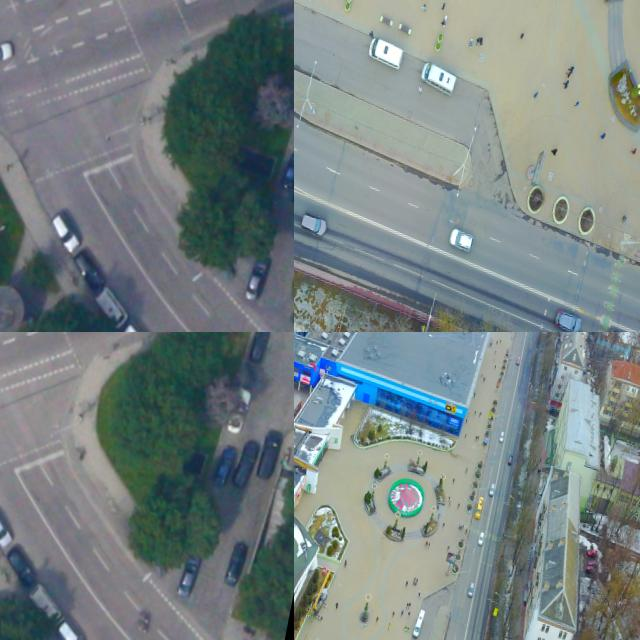UAI: (22, 580, 67, 630), (66, 246, 110, 296), (0, 542, 43, 591), (90, 284, 134, 331), (46, 211, 85, 255), (254, 427, 285, 482), (230, 437, 261, 489), (243, 252, 272, 304), (221, 538, 250, 589), (225, 386, 253, 437), (177, 551, 202, 598), (48, 614, 91, 640), (212, 445, 237, 488), (447, 226, 478, 257), (551, 304, 585, 332), (298, 211, 330, 240), (246, 332, 272, 364), (278, 149, 294, 193), (0, 508, 16, 550), (0, 35, 15, 72), (118, 319, 159, 332), (604, 325, 638, 332), (467, 582, 476, 598), (477, 531, 485, 547), (489, 482, 497, 497), (498, 431, 505, 444), (507, 454, 514, 466)
harvester: (417, 59, 460, 99), (366, 36, 408, 72), (411, 606, 427, 640), (474, 497, 485, 522)
